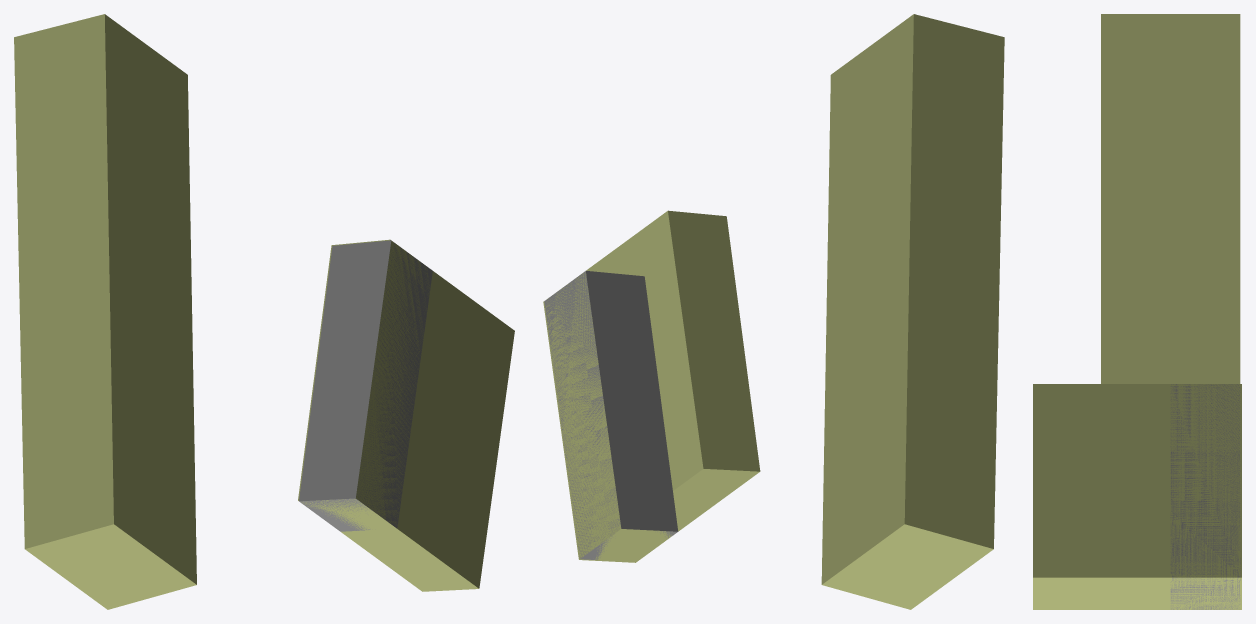
3 renders of one model, left to right at view 1: azimuth 30°, elevation 25°; view 2: azimuth 150°, elevation 25°; view 3: azimuth 270°, elevation 25°, orthographic. The views are drawn at different scales.
Parts seen in each view (by area): view 1: 0_1_2_0_3_3_1_2_0_1; view 2: 0_1_2_0_3_3_1_2_0_1; view 3: 0_1_2_0_3_3_1_2_0_1.
Boxes of the visible parts, <box> form: 0_1_2_0_3_3_1_2_0_1: <box>14,14,514,609</box>; 0_1_2_0_3_3_1_2_0_1: <box>543,14,1004,609</box>; 0_1_2_0_3_3_1_2_0_1: <box>1033,14,1241,609</box>.
Size of the model in its own units: 15.74 by 21.75 by 9.
